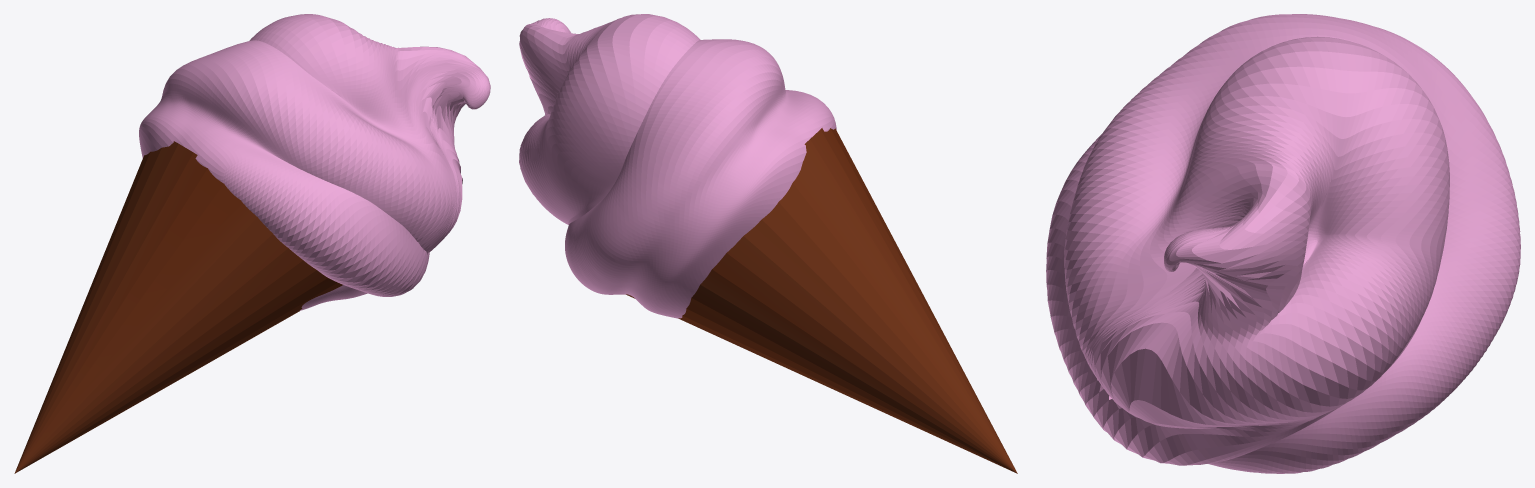
File: icecream.fbx
3 renders of one model, left to right at view 1: azimuth 30°, elevation 25°; view 2: azimuth 150°, elevation 25°; view 3: azimuth 270°, elevation 25°, orthographic. The views are drawn at different scales.
Parts seen in each view (by area): view 1: Quad Sphere, Cone; view 2: Quad Sphere, Cone; view 3: Quad Sphere.
Boxes of the visible parts, left/top/right/bottom form: Quad Sphere: left=139, top=14, right=490, bottom=310; Cone: left=14, top=141, right=342, bottom=473; Quad Sphere: left=519, top=14, right=836, bottom=318; Cone: left=626, top=128, right=1017, bottom=473; Quad Sphere: left=1046, top=14, right=1520, bottom=473.
Size of the model in its own units: 641 by 473 by 362.
